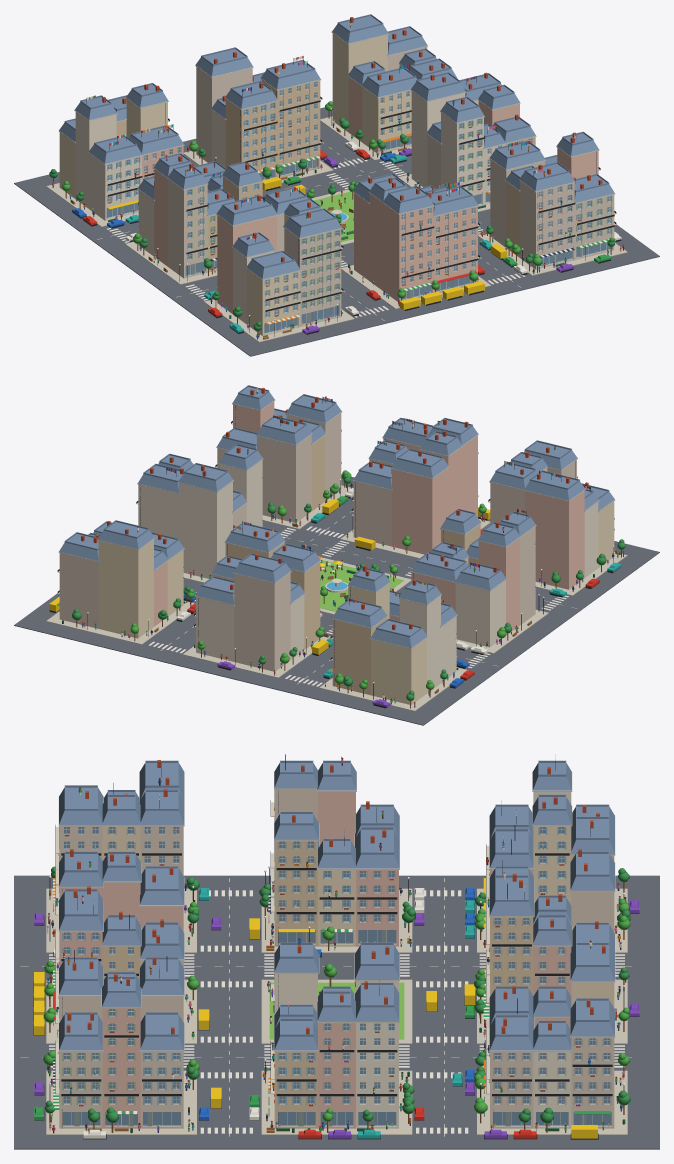
File: quartier.glb
3 views of the same model, one above another, from view 1: azimuth 30°, elevation 25°; view 2: azimuth 150°, elevation 25°; view 3: azimuth 270°, elevation 25° (orthographic). The views are drawn at different scales.
Visible parts, largest first — view 1: Quartier, Vitres; view 2: Quartier; view 3: Quartier, Vitres.
Part boxes in pixels (x1=…): Quartier: x1=14, y1=14, x2=659, y2=356; Vitres: x1=106, y1=82, x2=611, y2=333; Quartier: x1=14, y1=385, x2=659, y2=725; Quartier: x1=14, y1=754, x2=659, y2=1149; Vitres: x1=63, y1=827, x2=611, y2=1126.
Bounding box in the file's own units: 120 × 29.65 × 120.
